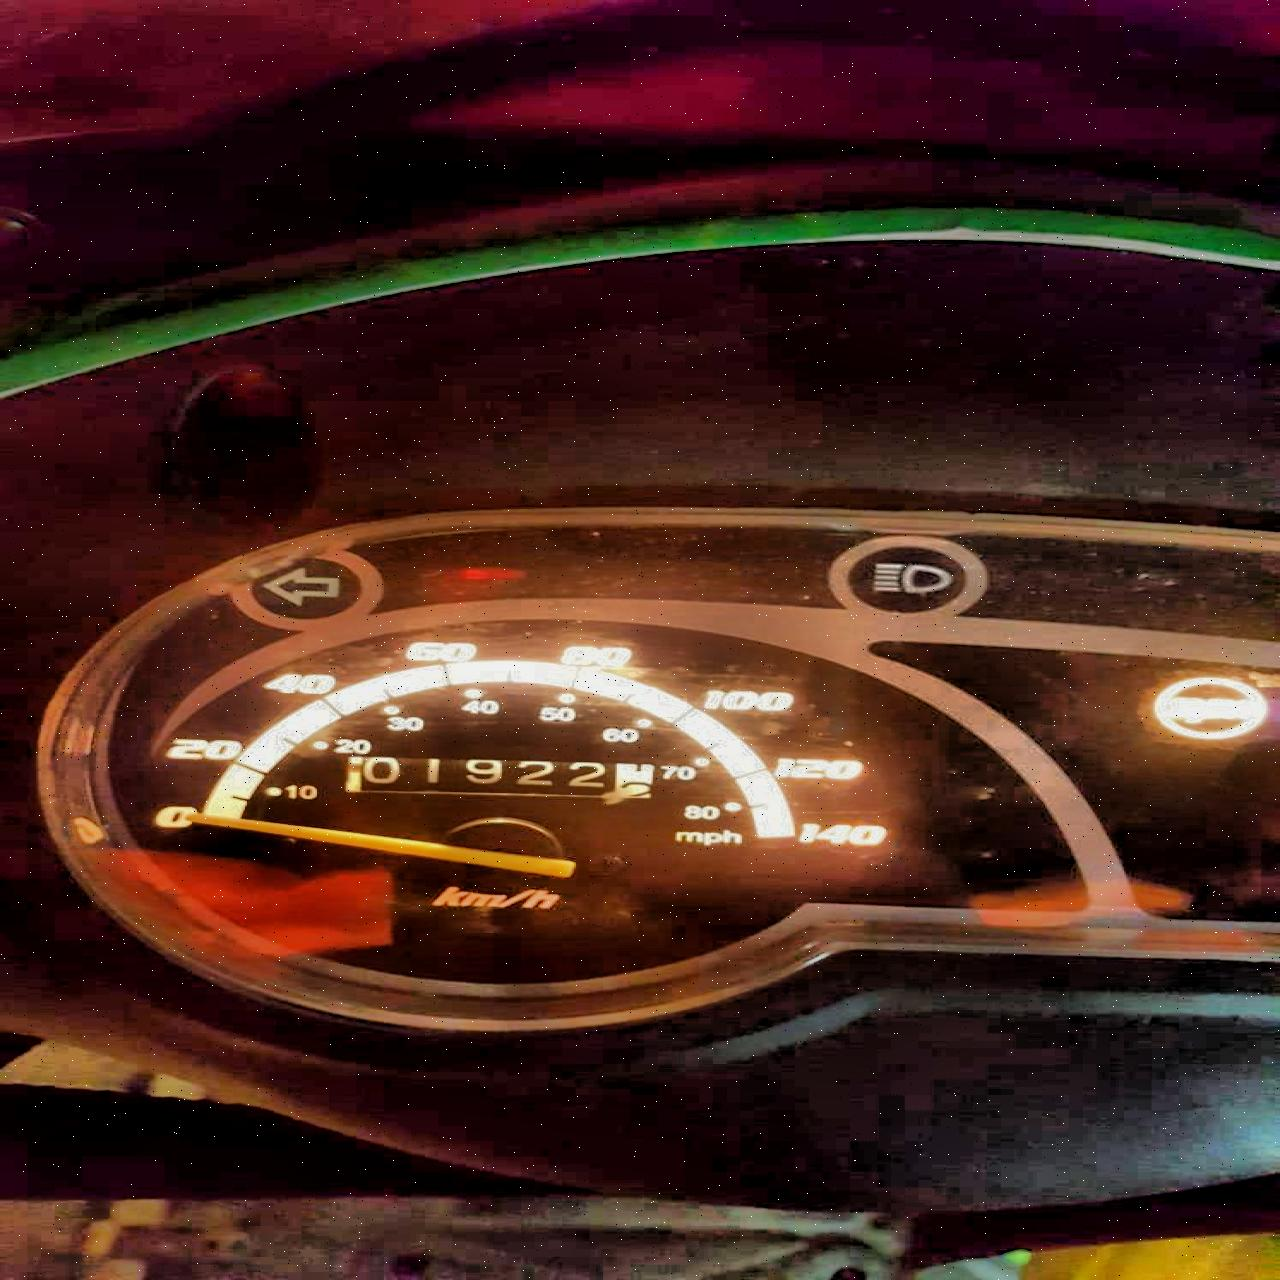0: (359, 754, 404, 785)
1: (416, 755, 445, 784), (622, 760, 651, 774)
2: (509, 756, 560, 788), (565, 758, 608, 790), (613, 779, 653, 799)
9: (457, 755, 505, 784)
odometer: (331, 750, 661, 803)
